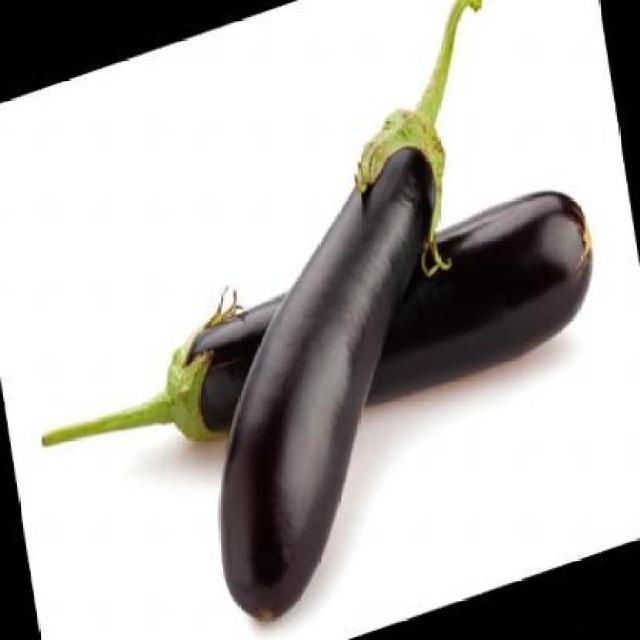eggplant: (149, 0, 563, 635), (28, 173, 604, 519)
